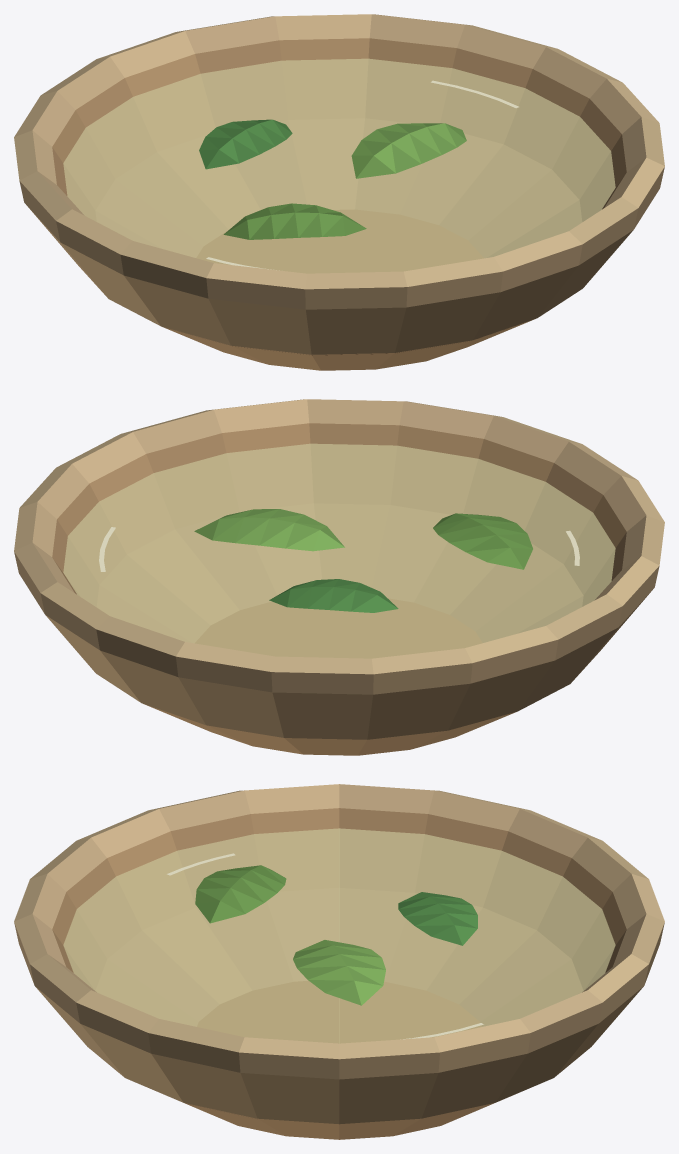
Rendered from soup_clear.glb.
3 views of the same model, one above another, from view 1: azimuth 30°, elevation 25°; view 2: azimuth 150°, elevation 25°; view 3: azimuth 270°, elevation 25° (orthographic).
Visible parts, largest first — view 1: 浅木碗, 清汤水面, 三片食用野草; view 2: 浅木碗, 清汤水面, 三片食用野草; view 3: 浅木碗, 清汤水面, 三片食用野草.
Boxes of the visible parts, bbox=[...] form: 浅木碗: bbox=[14, 14, 664, 370]; 清汤水面: bbox=[63, 58, 615, 273]; 三片食用野草: bbox=[199, 119, 466, 239]; 浅木碗: bbox=[14, 399, 664, 755]; 清汤水面: bbox=[63, 443, 615, 658]; 三片食用野草: bbox=[194, 509, 532, 612]; 浅木碗: bbox=[14, 784, 664, 1139]; 清汤水面: bbox=[63, 828, 615, 1043]; 三片食用野草: bbox=[195, 865, 477, 1005].
Size of the model in its own units: 0.528 by 0.153 by 0.528.
